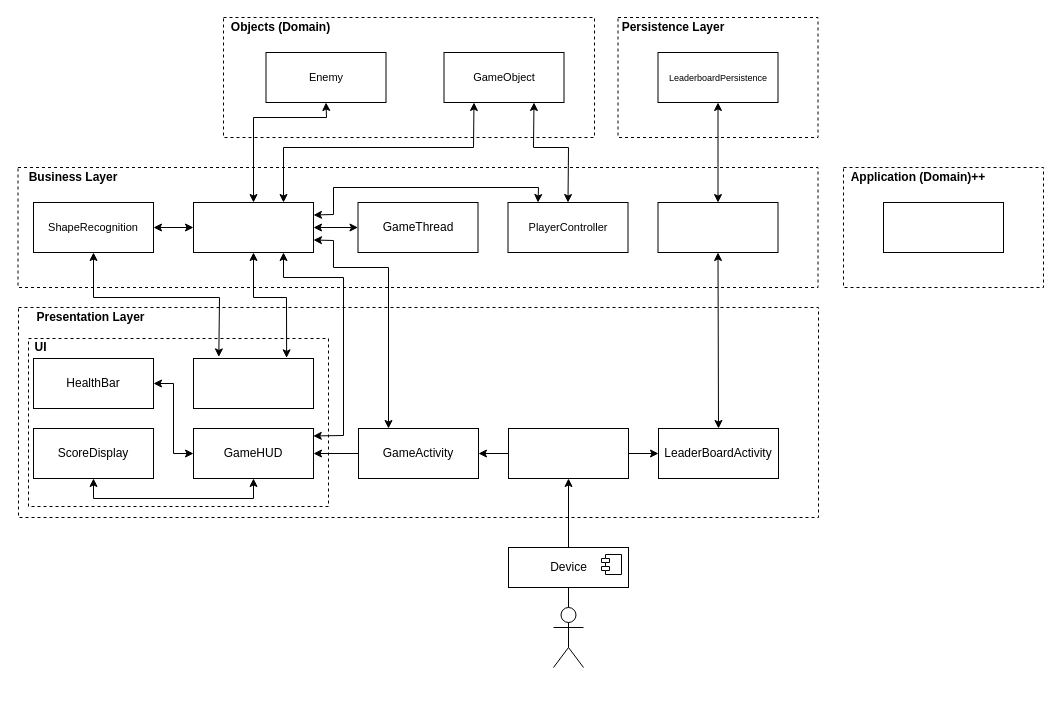
Image size: 1061x706. Some labels were removed from this diagram. Here are the shapes that lost their labels. From the top down, the centre of each, then its label:
the point at 253,227: GameView
the point at 717,227: LeaderboardController
the point at 943,227: ScoreEntry
the point at 253,383: FingerPathLayer
the point at 568,453: HomeActivity
the point at 568,637: Player
